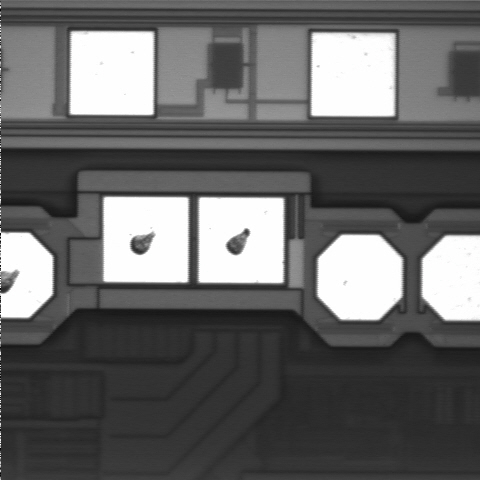pad: (103, 197, 189, 283), (198, 197, 284, 283), (317, 235, 403, 320), (70, 31, 154, 115), (311, 33, 395, 117)
